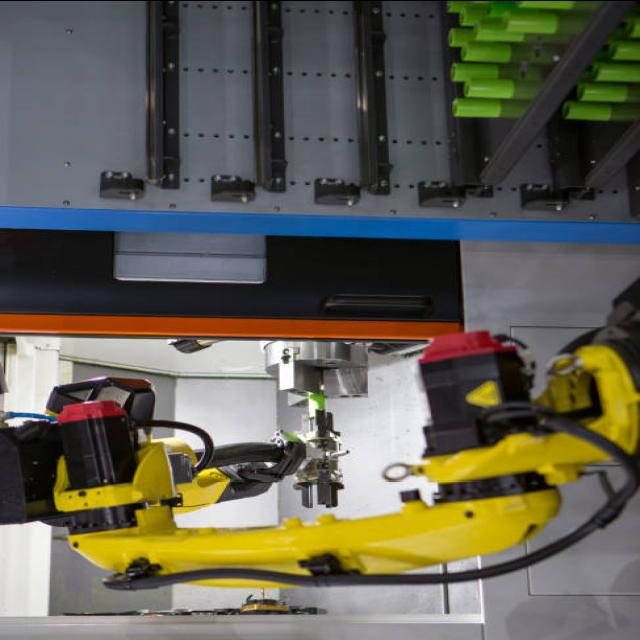Robotic-arm: (0, 328, 640, 598)
